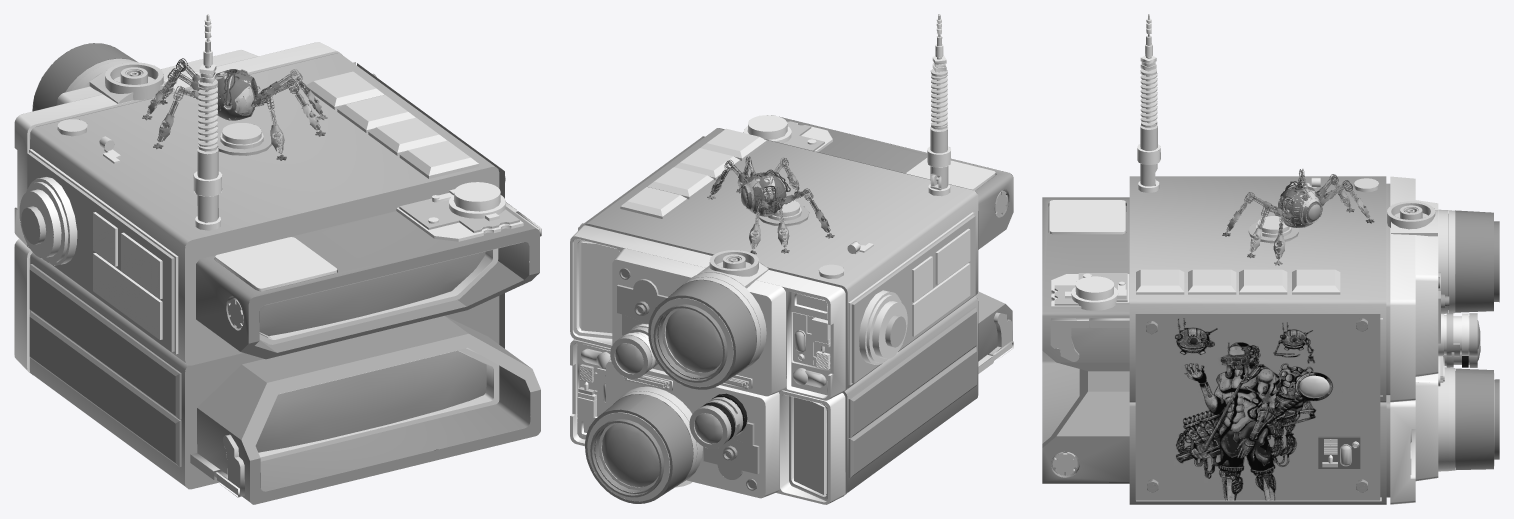
Rendered from seo.glb.
The picture shows the model from 3 angles, left to right: view 1: azimuth 30°, elevation 25°; view 2: azimuth 150°, elevation 25°; view 3: azimuth 270°, elevation 25°; orthographic projection. The views are drawn at different scales.
Visible parts, largest first — view 1: seo.001, seo; view 2: seo.001, seo; view 3: seo.001, seo.
Boxes of the visible parts, x1=… form: seo.001: x1=14, y1=14, x2=541, y2=504; seo: x1=29, y1=43, x2=499, y2=497; seo.001: x1=570, y1=14, x2=1013, y2=504; seo: x1=584, y1=128, x2=1013, y2=503; seo.001: x1=1042, y1=14, x2=1494, y2=504; seo: x1=1129, y1=169, x2=1499, y2=504.
Bounding box in the file's own units: 36.5 × 45.66 × 48.24.
Materials: 41 (1 with a texture image).
